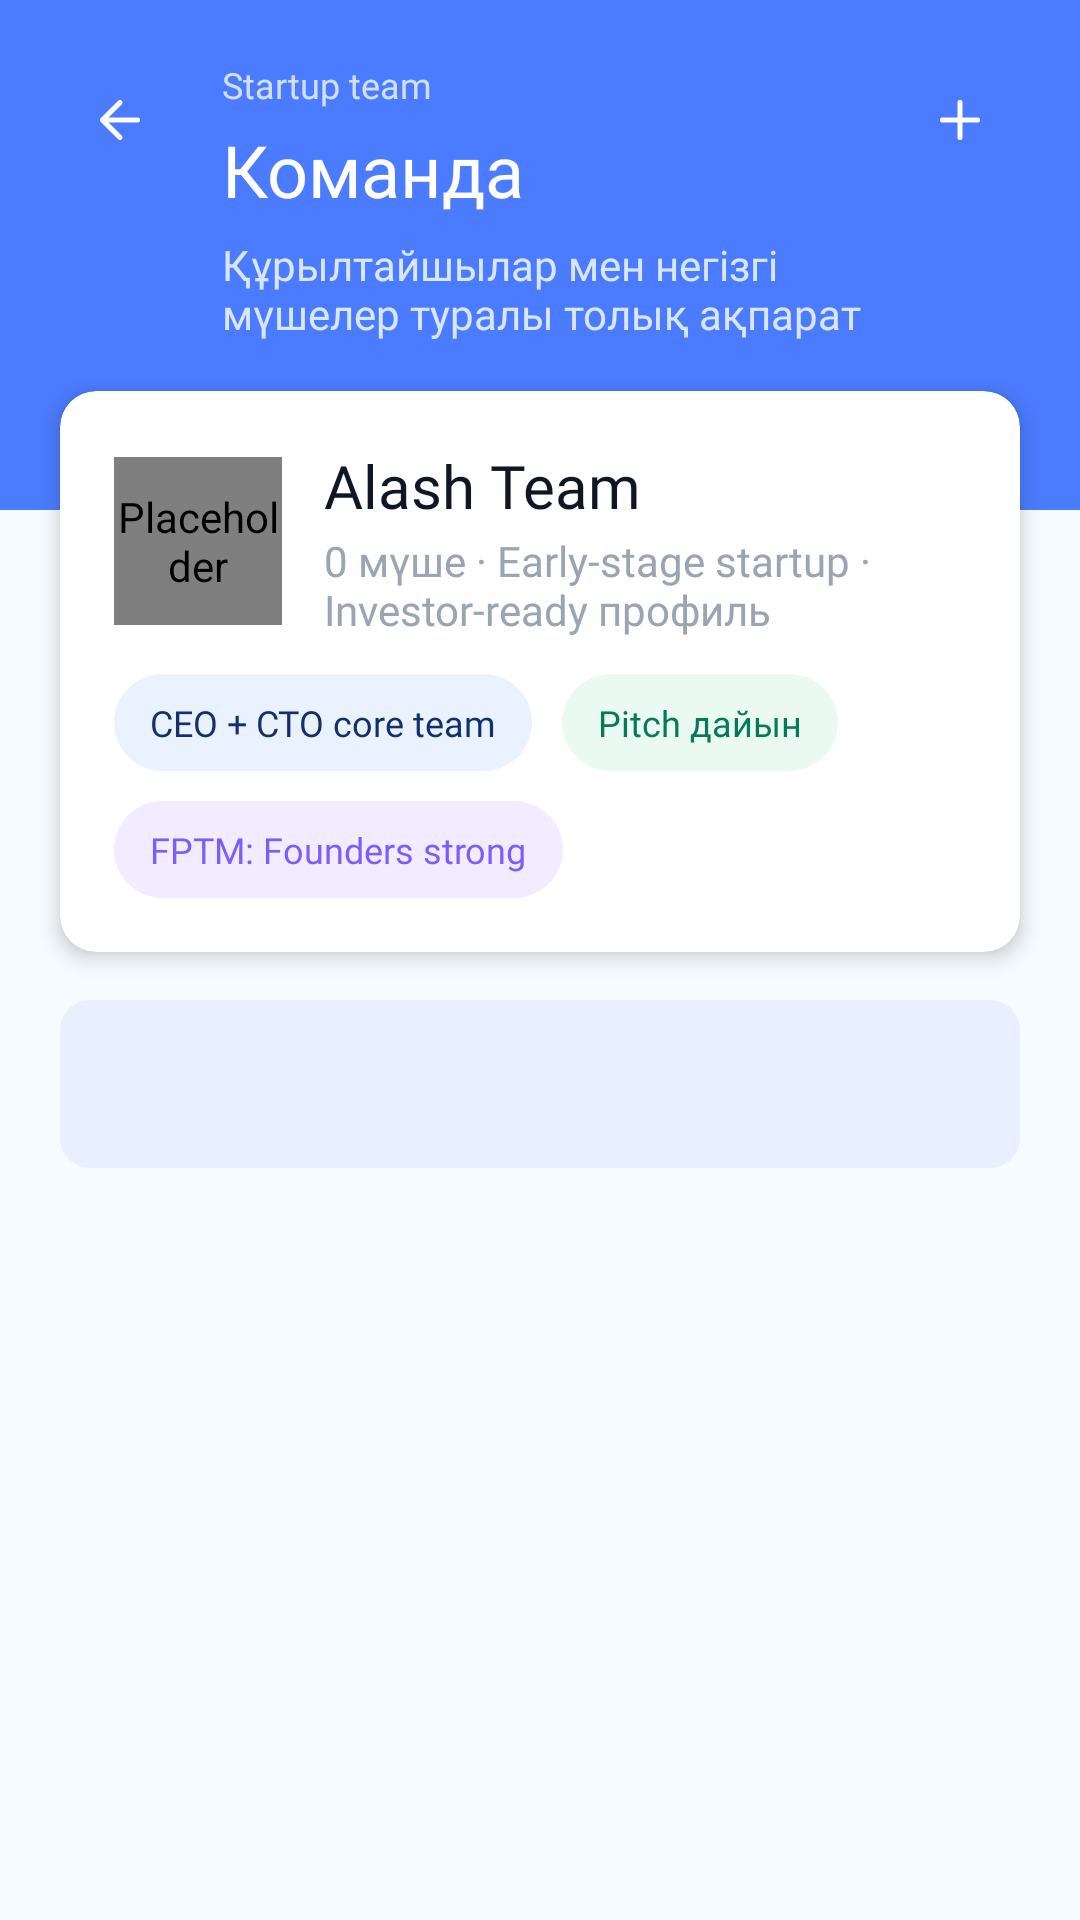

Screen size 1080×1920. Icon name, then its box in pixels as {"x1": x1, "y1": y1, "x2": x2, "y2": y2}:
Артқа: {"x1": 100, "y1": 100, "x2": 140, "y2": 140}
